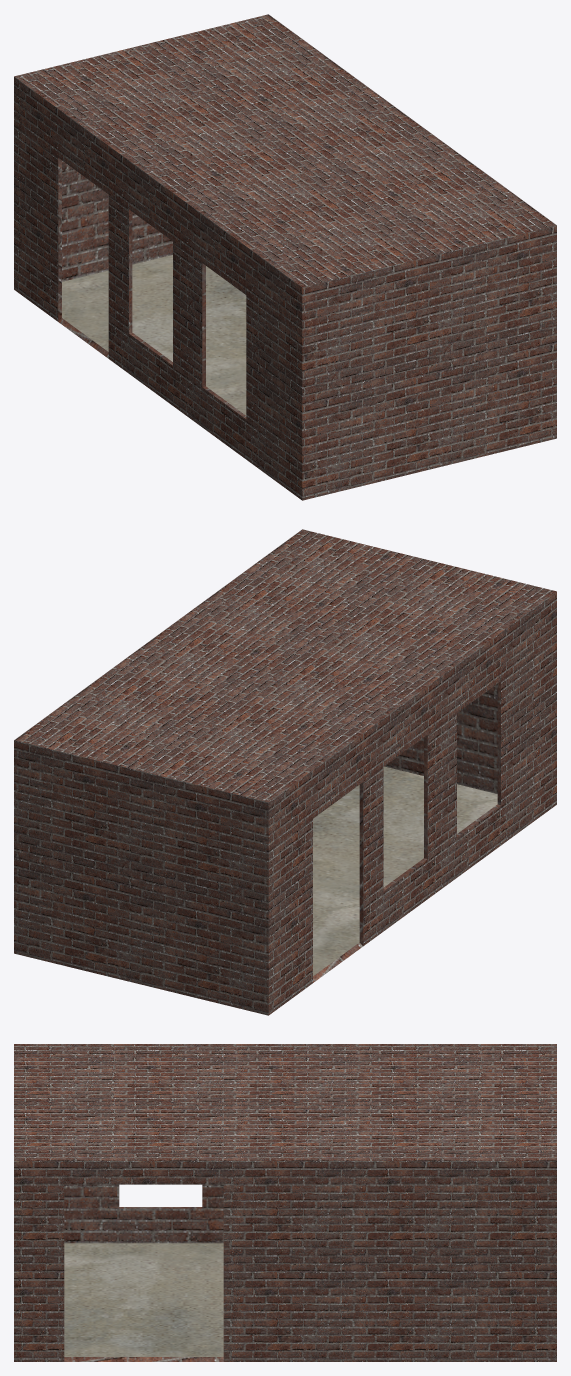
File: building 4 redo mesh.fbx
3 views of the same model, one above another, from view 1: azimuth 30°, elevation 25°; view 2: azimuth 150°, elevation 25°; view 3: azimuth 270°, elevation 25° (orthographic). The views are drawn at different scales.
Visible parts, largest first — view 1: Cube.009, Cube.016; view 2: Cube.009, Cube.016; view 3: Cube.009, Cube.016.
Part boxes in pixels (bbox=[...]): Cube.009: bbox=[14, 14, 556, 500]; Cube.016: bbox=[58, 158, 246, 418]; Cube.009: bbox=[14, 529, 556, 1015]; Cube.016: bbox=[313, 681, 500, 982]; Cube.009: bbox=[14, 1044, 556, 1361]; Cube.016: bbox=[64, 1184, 223, 1361].
Size of the model in its own units: 1000 by 800 by 1961.
